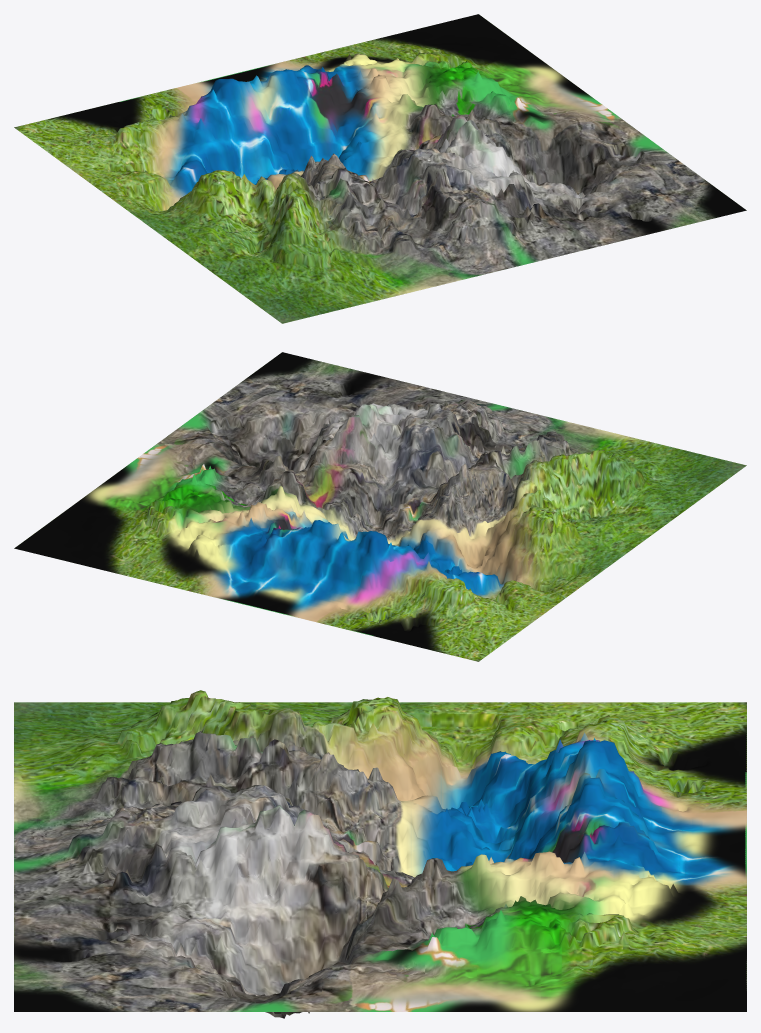
The model's file is terrain3.glb.
3 renders of one model, top to bottom at view 1: azimuth 30°, elevation 25°; view 2: azimuth 150°, elevation 25°; view 3: azimuth 270°, elevation 25°, orthographic. The views are drawn at different scales.
Visible parts, largest first — view 1: Landscape.001; view 2: Landscape.001; view 3: Landscape.001.
Boxes of the visible parts, x1,y1,x2,y2 form: Landscape.001: (14,14,746,323); Landscape.001: (14,352,746,661); Landscape.001: (14,690,746,1018).
Size of the model in its own units: 10 by 2.36 by 10.
Materials: 1 (1 with a texture image).
